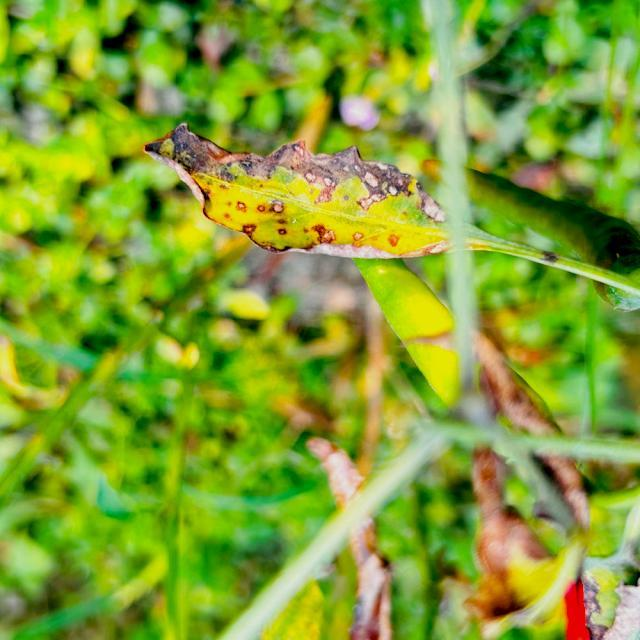Bercak Daun Serkospora: (143, 121, 497, 262)
